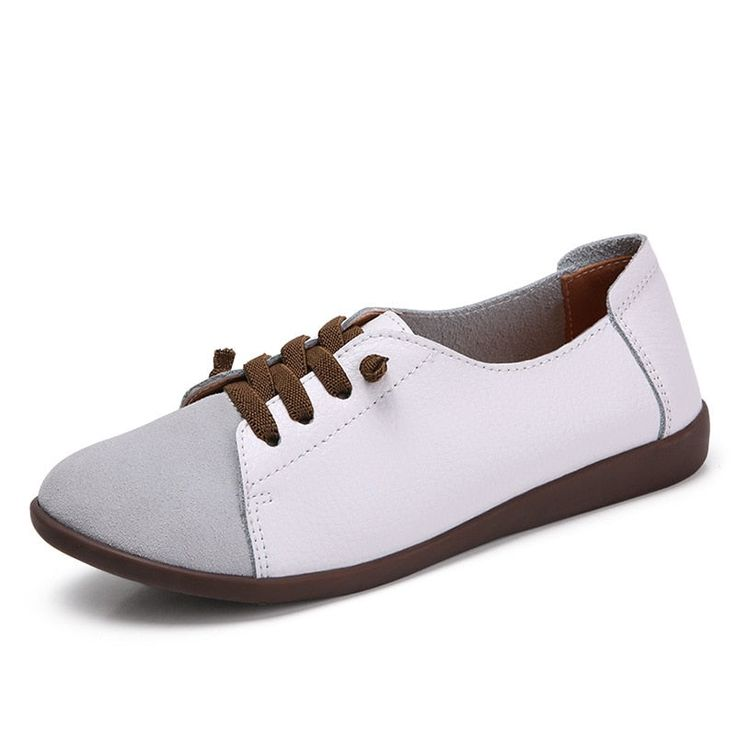gamuza: (37, 391, 260, 576)
